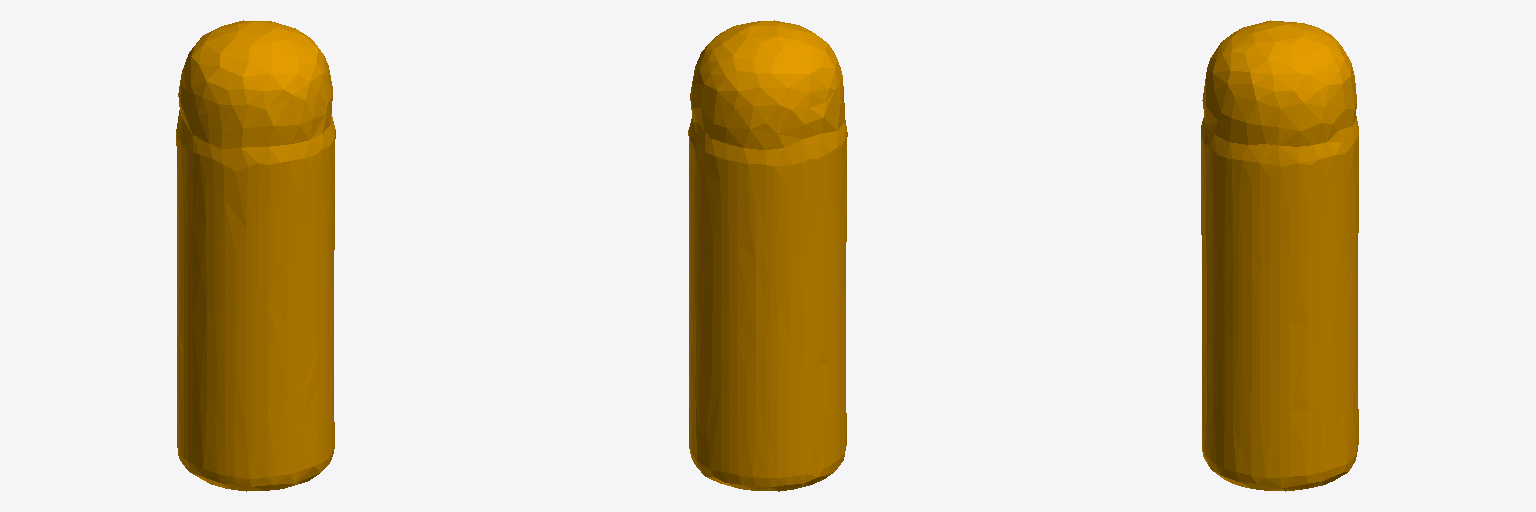
The robot description file, URDF, robot "shampoo_new_poisson_002":
<?xml version="1.0"?>
<robot name="shampoo_new_poisson_002">
  <link name="base_link">
    <contact>
      <lateral_friction value="1.0"/>
      <rolling_friction value="0.0"/>
      <contact_cfm value="0.0"/>
      <contact_erp value="1.0"/>
    </contact>
    <inertial>
      <mass value="0.370375072224"/>
      <inertia ixx="1" ixy="0" ixz="0" iyy="1" iyz="0" izz="1"/>
    </inertial>
    <visual>
      <geometry>
        <mesh filename="shampoo_new_poisson_002_visual.obj"/>
      </geometry>
    </visual>
    <collision>
      <geometry>
        <mesh filename="shampoo_new_poisson_002_collision.obj"/>
      </geometry>
    </collision>
  </link>
</robot>

--- Facts derived from the render (not from the file) ---
Views: 3 orthographic renders of the robot side by side, from view 1: azimuth 30°, elevation 25°; view 2: azimuth 150°, elevation 25°; view 3: azimuth 270°, elevation 25°.
Model shampoo_new_poisson_002 with 1 links and 0 joints (none), rooted at base_link, posed all joints at 0.
Visible links, largest first — view 1: base_link; view 2: base_link; view 3: base_link.
Boxes of the visible links, x1,y1,x2,y2 form: base_link: [176, 20, 335, 491]; base_link: [688, 20, 847, 491]; base_link: [1201, 20, 1358, 491].
Size in the robot's own frame: 0.0624 by 0.0622 by 0.1878 metres.
Meshes: 1 distinct files referenced, 1 mesh visuals loaded (1 OBJ).